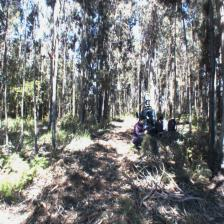trunktrack_idkeyframe: (209, 62, 217, 166), (50, 77, 56, 148)
